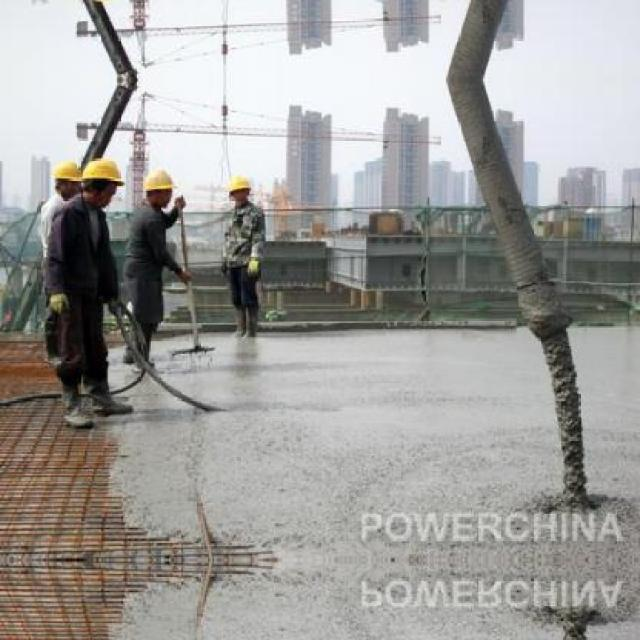helmet: (71, 154, 126, 206), (142, 164, 178, 210), (51, 156, 80, 201), (224, 170, 253, 208)
